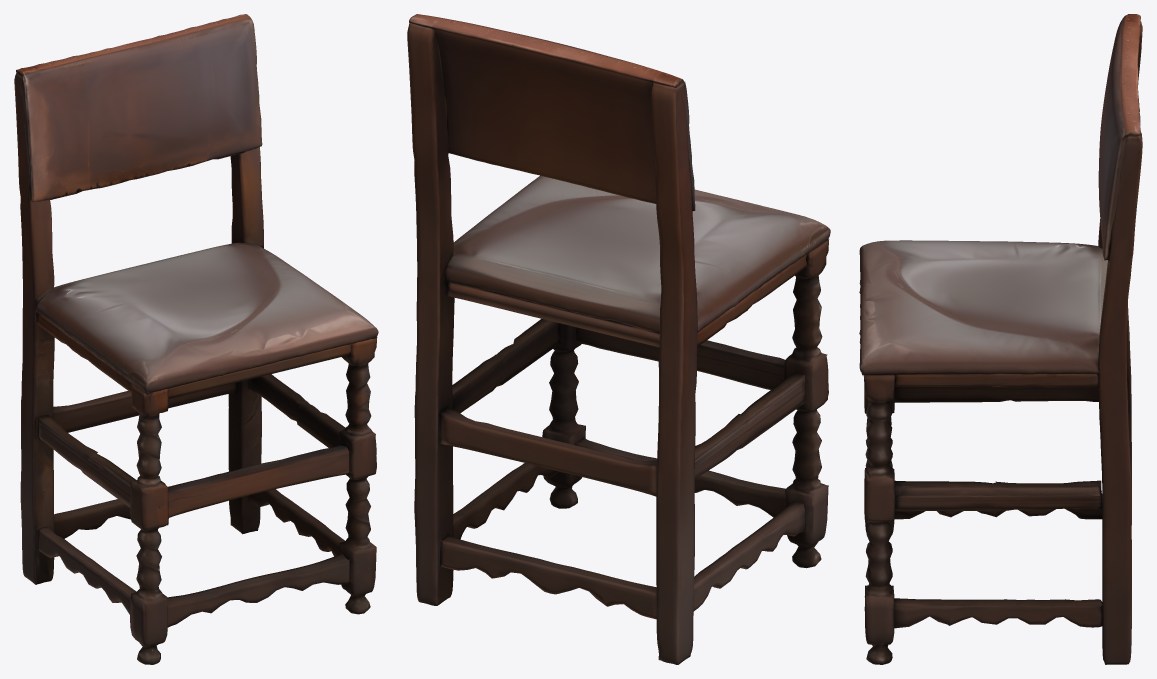
3 views of the same model, side by side, from view 1: azimuth 30°, elevation 25°; view 2: azimuth 150°, elevation 25°; view 3: azimuth 270°, elevation 25° (orthographic). The views are drawn at different scales.
Visible parts, largest first — view 1: root.1, root.0, root.2, root.4, root.5, root.3, root.6, root.11, root.9, root.8, root.12, root.13 (+4 smaller); view 2: root.0, root.1, root.2, root.3, root.4, root.8, root.10, root.6, root.5, root.9, root.12, root.13 (+4 smaller); view 3: root.0, root.3, root.5, root.1, root.12, root.14, root.9, root.7, root.13, root.2.
Boxes of the visible parts, x1,y1,x2,y2 form: root.1: (16,14,262,202); root.0: (34,242,378,394); root.2: (14,73,54,584); root.4: (130,382,168,664); root.5: (339,337,377,614); root.3: (228,22,263,534); root.6: (168,445,349,517); root.11: (167,553,349,627); root.9: (38,415,136,507); root.8: (53,382,236,432); root.12: (249,374,345,447); root.13: (38,527,136,614); root.0: (445,175,830,333); root.1: (409,14,695,211); root.2: (650,82,697,664); root.3: (407,23,454,605); root.4: (784,239,829,568); root.8: (440,407,656,496); root.10: (440,535,656,619); root.6: (575,327,785,389); root.5: (542,323,585,508); root.9: (694,372,805,478); root.12: (452,319,560,413); root.13: (693,501,805,611); root.0: (859,240,1107,375); root.3: (1098,132,1142,664); root.5: (863,374,895,664); root.1: (1098,14,1140,260); root.12: (894,480,1101,511); root.14: (894,598,1102,628); root.9: (894,382,1098,402); root.7: (895,373,1098,387); root.13: (894,490,1102,519); root.2: (1098,18,1142,524).
Bounding box in the file's own units: 0.4725 × 0.98 × 0.4689.
Materials: 17 (17 with a texture image).
